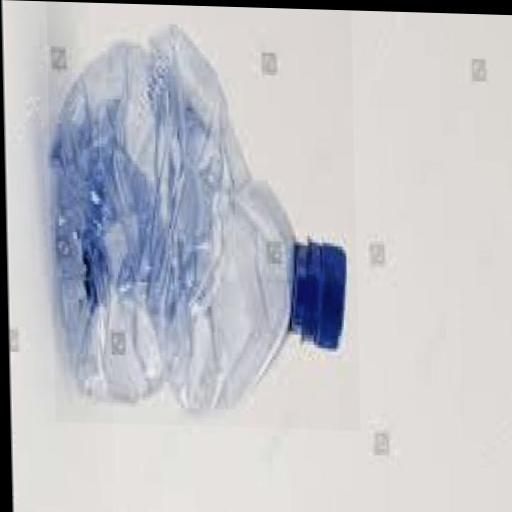bottle: (40, 9, 363, 430)
